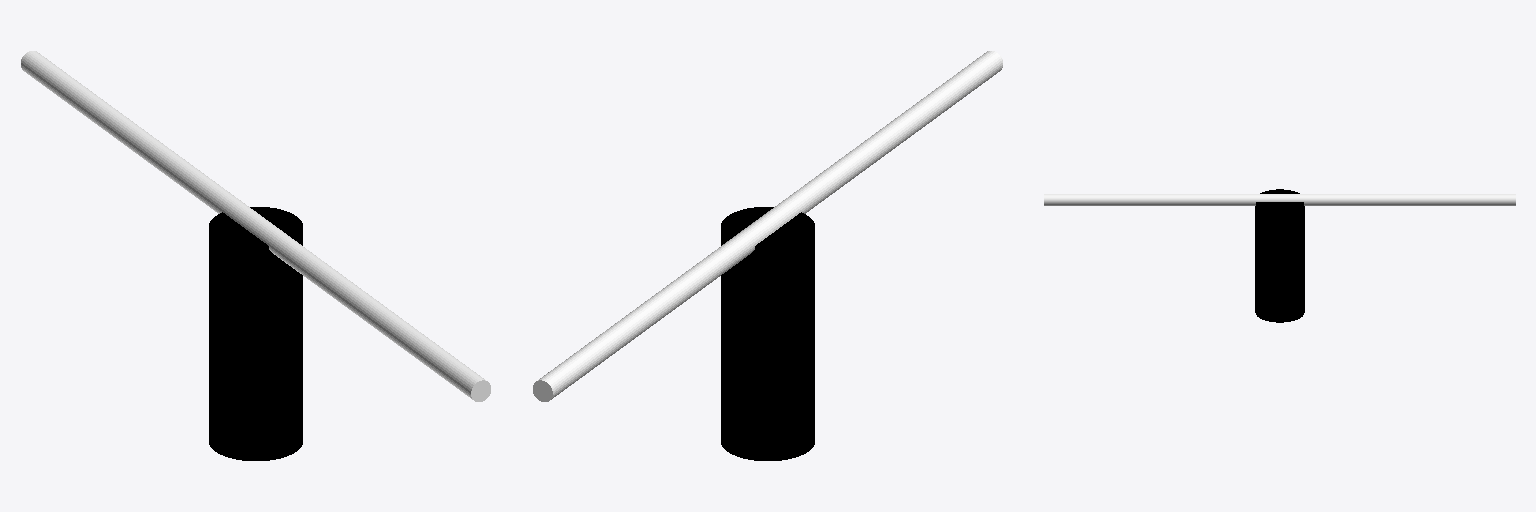
The robot description file, URDF, robot "robot":
<?xml version="1.0"?>
<robot name="robot">
  <link name="ball">
    <contact>
      <rolling_friction value="0.0"/>
      <spinning_friction value="0.03"/>
      <lateral_friction value="1"/>
    </contact>
    <inertial>
      <origin rpy="0 0 0" xyz="0 0 0"/>
      <mass value="1.0"/>
      <inertia ixx="1" ixy="0" ixz="0" iyy="1" iyz="0" izz="1"/>
    </inertial>
    <visual>
      <origin rpy="0 0 0" xyz="0 0 0"/>
      <geometry>
        <mesh filename="media/textured_sphere_smooth.obj" scale="2 2 2"/>
      </geometry>
      <material name="blue">
        <color rgba="0 0 1 0.8"/>
      </material>
    </visual>
    <collision>
      <origin rpy="0 0 0" xyz="0 0 0"/>
      <geometry>
        <sphere radius="2.0"/>
      </geometry>
    </collision>
  </link>
  <link name="rotation_axis">
    <inertial>
      <origin xyz="0 0 0" rpy="0 0 0"/>
      <mass value="0.001"/>
      <inertia ixx="0.001" ixy="0" ixz="0" iyy="0.001" iyz="0" izz="0.001"/>
    </inertial>
    <visual>
      <origin xyz="0 0 0" rpy="-1.57079632679 0 0"/>
      <geometry>
        <cylinder radius="0.05" length="3.8"/>
      </geometry>
      <material name="white">
        <color rgba="1 1 1 1"/>
      </material>
    </visual>
  </link>
  <joint name="primary_rotation_axis" type="revolute">
    <axis xyz="0 1 0"/>
    <limit effort="1" velocity="3"/>
    <origin rpy="0 0 0" xyz="0 0 0"/>
    <parent link="ball"/>
    <child link="rotation_axis"/>
  </joint>
  <link name="lever_arm">
    <inertial>
      <origin xyz="0 0 -1.0" rpy="0 0 0"/>
      <mass value="1"/>
      <inertia ixx="1" ixy="0" ixz="0" iyy="1" iyz="0" izz="1"/>
    </inertial>
    <visual>
      <origin xyz="0 0 -0.5" rpy="0 0 0"/>
      <geometry>
        <cylinder radius="0.2" length="1"/>
      </geometry>
      <material name="black">
        <color rgba="0 0 0 1"/>
      </material>
    </visual>
  </link>
  <joint name="lateral_rotation_axis" type="revolute">
    <axis xyz="1 0 0"/>
    <limit effort="1" velocity="3"/>
    <origin rpy="0 0 0" xyz="0 0 0"/>
    <parent link="rotation_axis"/>
    <child link="lever_arm"/>
  </joint>
</robot>

--- What the picture shows (computed from the rendered views, not written in the file) ---
The picture shows the robot from 3 angles, left to right: view 1: azimuth 30°, elevation 25°; view 2: azimuth 150°, elevation 25°; view 3: azimuth 270°, elevation 25°; orthographic projection.
Robot: robot — 3 links, 2 joints (2 revolute); root link ball; default pose: every joint at zero.
Links seen in each view (by area): view 1: lever_arm, rotation_axis; view 2: lever_arm, rotation_axis; view 3: lever_arm, rotation_axis.
Link boxes in pixels (box(x1,y1,x2,y2)): lever_arm: box(209, 207, 302, 460); rotation_axis: box(21, 51, 490, 401); lever_arm: box(721, 207, 814, 460); rotation_axis: box(533, 51, 1002, 401); lever_arm: box(1255, 189, 1304, 322); rotation_axis: box(1044, 194, 1515, 205).
Size in the robot's own frame: 0.4 by 3.8 by 1.05 metres.
0 mesh visuals loaded from 1 distinct referenced files (none loaded); not drawn: 1 (file found but could not be loaded).